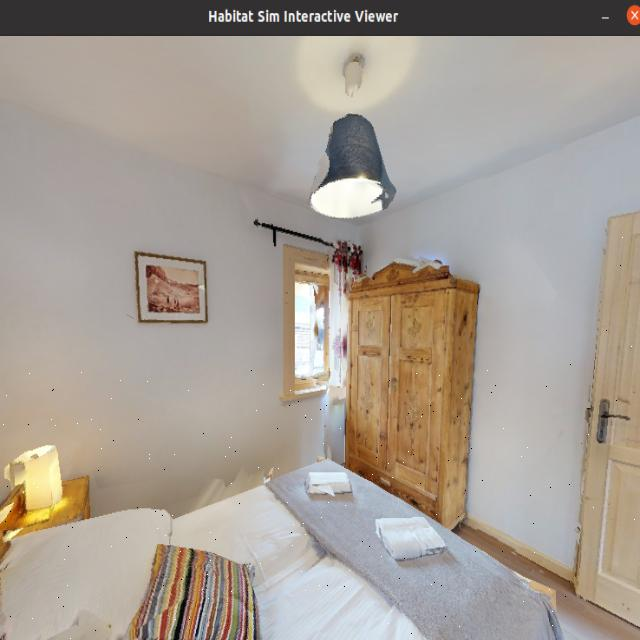bed: (0, 369, 613, 640)
door: (555, 195, 640, 640)
